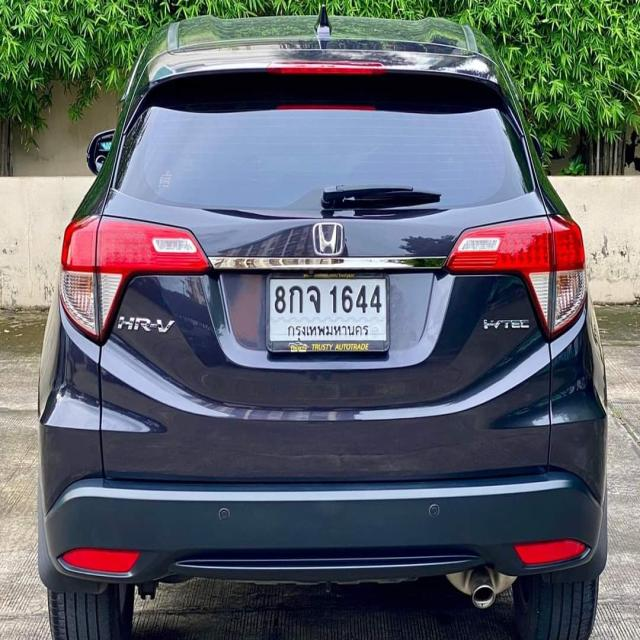license_plate: (266, 269, 391, 357)
